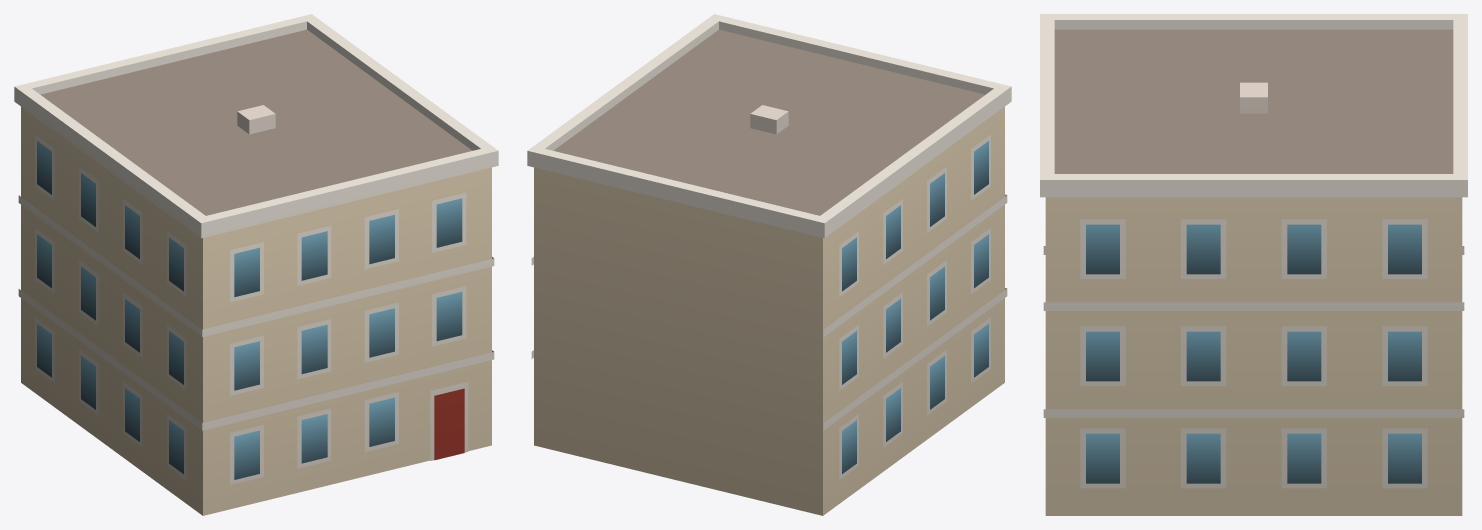
File: beacon_wbb2_far.glb
3 renders of one model, left to right at view 1: azimuth 30°, elevation 25°; view 2: azimuth 150°, elevation 25°; view 3: azimuth 270°, elevation 25°, orthographic. The views are drawn at different scales.
Visible parts, largest first — view 1: beacon_wbb2_far; view 2: beacon_wbb2_far; view 3: beacon_wbb2_far.
Part boxes in pixels (x1=…): beacon_wbb2_far: x1=14, y1=14, x2=498, y2=515; beacon_wbb2_far: x1=527, y1=14, x2=1011, y2=515; beacon_wbb2_far: x1=1040, y1=14, x2=1467, y2=515.
Size of the model in its own units: 11.32 by 10.97 by 12.32.
Materials: 1 (1 with a texture image).
